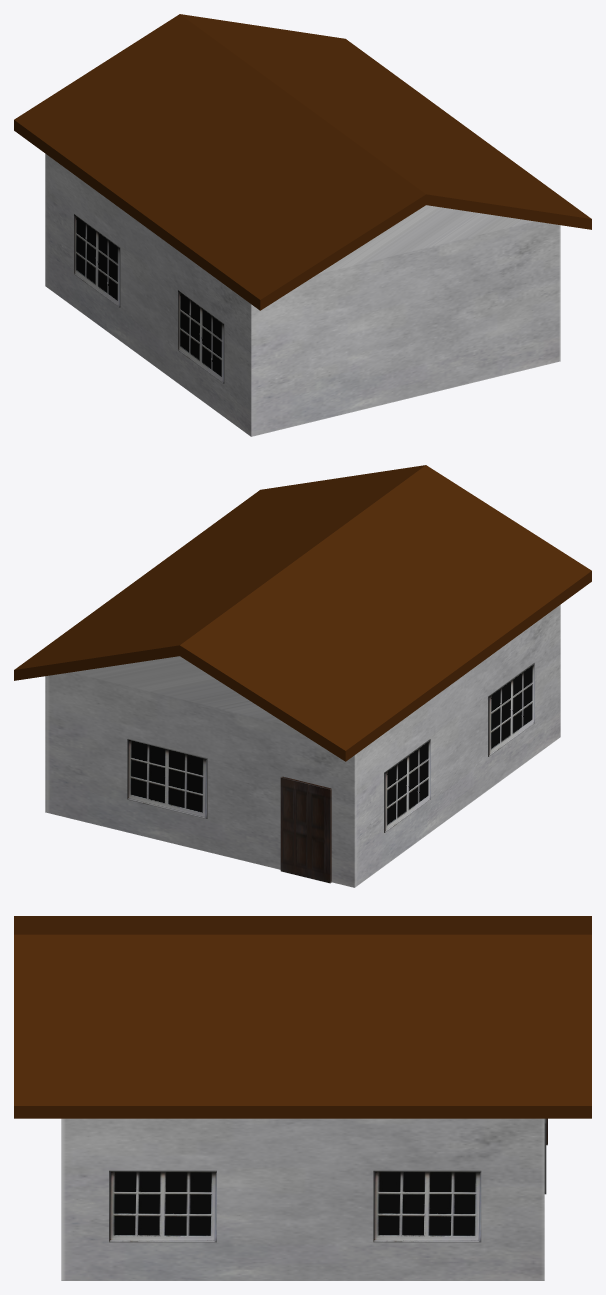
File: house.fbx
3 views of the same model, one above another, from view 1: azimuth 30°, elevation 25°; view 2: azimuth 150°, elevation 25°; view 3: azimuth 270°, elevation 25° (orthographic). The views are drawn at different scales.
Parts seen in each view (by area): view 1: roof, base, window 2, window.001; view 2: roof, base, window, door, window 2, window.001; view 3: roof, base, window.002, window.003.
Part boxes in pixels (x1=…): roof: x1=14, y1=14, x2=591, y2=310; base: x1=45, y1=154, x2=560, y2=436; window 2: x1=178, y1=290, x2=224, y2=383; window.001: x1=74, y1=214, x2=120, y2=307; roof: x1=14, y1=465, x2=591, y2=761; base: x1=45, y1=605, x2=560, y2=887; window: x1=127, y1=739, x2=207, y2=818; door: x1=280, y1=776, x2=331, y2=883; window 2: x1=488, y1=663, x2=534, y2=756; window.001: x1=384, y1=739, x2=430, y2=832; roof: x1=14, y1=916, x2=591, y2=1118; base: x1=61, y1=1118, x2=544, y2=1280; window.002: x1=373, y1=1170, x2=481, y2=1242; window.003: x1=109, y1=1170, x2=216, y2=1242.
Bounding box in the file's own units: 1978 × 1253 × 2544.
8 materials, 7 textured.
